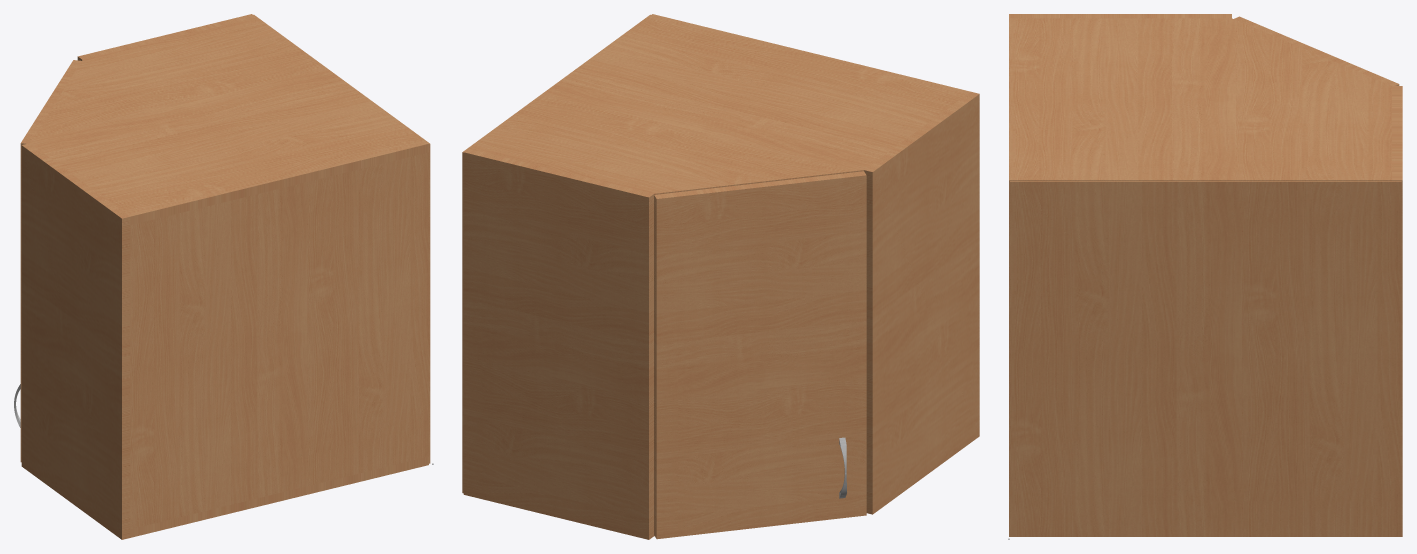
File: antresol_dlya_shkafa_ugol.glb
The picture shows the model from 3 angles, left to right: view 1: azimuth 30°, elevation 25°; view 2: azimuth 150°, elevation 25°; view 3: azimuth 270°, elevation 25°; orthographic projection. The views are drawn at different scales.
Visible parts, largest first — view 1: Shape_IndexedFaceSet.008, Shape_IndexedFaceSet.006, Shape_IndexedFaceSet.004, Shape_IndexedFaceSet.005, Shape_IndexedFaceSet.001, Shape_IndexedFaceSet.003, Shape_IndexedFaceSet.002_NON; view 2: Shape_IndexedFaceSet.001, Shape_IndexedFaceSet.003, Shape_IndexedFaceSet.006, Shape_IndexedFaceSet.004, Shape_IndexedFaceSet.002_NON; view 3: Shape_IndexedFaceSet.002_NON, Shape_IndexedFaceSet.006, Shape_IndexedFaceSet.003, Shape_IndexedFaceSet.004, Shape_IndexedFaceSet.001.
Part boxes in pixels (x1=…): Shape_IndexedFaceSet.008: x1=130, y1=152, x2=428, y2=529; Shape_IndexedFaceSet.006: x1=30, y1=17, x2=428, y2=224; Shape_IndexedFaceSet.004: x1=21, y1=143, x2=130, y2=539; Shape_IndexedFaceSet.005: x1=130, y1=456, x2=428, y2=537; Shape_IndexedFaceSet.001: x1=20, y1=60, x2=81, y2=462; Shape_IndexedFaceSet.003: x1=77, y1=14, x2=255, y2=60; Shape_IndexedFaceSet.002_NON: x1=253, y1=14, x2=430, y2=463; Shape_IndexedFaceSet.001: x1=654, y1=171, x2=866, y2=539; Shape_IndexedFaceSet.003: x1=463, y1=148, x2=653, y2=539; Shape_IndexedFaceSet.006: x1=469, y1=14, x2=970, y2=194; Shape_IndexedFaceSet.004: x1=864, y1=91, x2=979, y2=514; Shape_IndexedFaceSet.002_NON: x1=462, y1=14, x2=650, y2=493; Shape_IndexedFaceSet.002_NON: x1=1010, y1=181, x2=1401, y2=536; Shape_IndexedFaceSet.006: x1=1009, y1=18, x2=1391, y2=189; Shape_IndexedFaceSet.003: x1=1392, y1=86, x2=1402, y2=536; Shape_IndexedFaceSet.004: x1=1009, y1=14, x2=1231, y2=18; Shape_IndexedFaceSet.001: x1=1234, y1=16, x2=1399, y2=85.
Bounding box in the file's own units: 609 × 601 × 601.
Materials: 10 (9 with a texture image).
